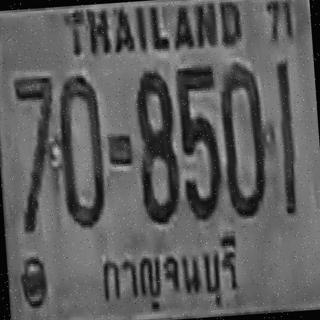N00: (217, 60, 270, 216), (54, 72, 106, 226)
N01: (274, 58, 298, 214)
N05: (175, 63, 223, 219)
N07: (12, 73, 61, 229)
N08: (132, 68, 180, 222)
P17: (95, 228, 248, 320)
